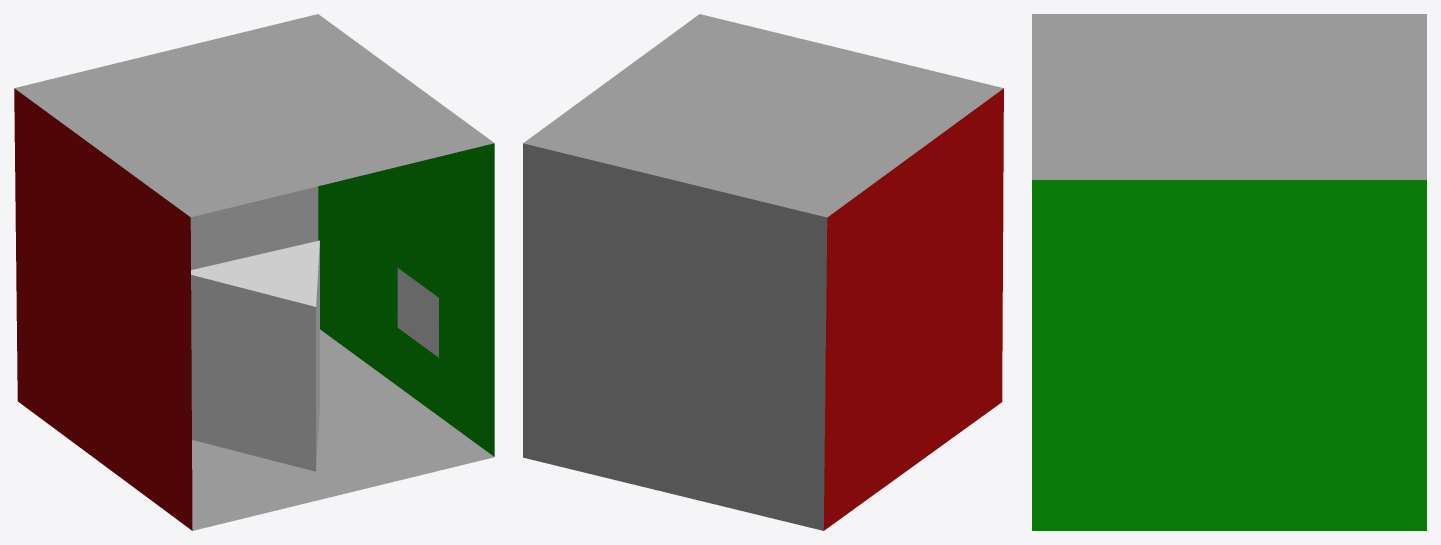
File: Cycles.dae
3 renders of one model, left to right at view 1: azimuth 30°, elevation 25°; view 2: azimuth 150°, elevation 25°; view 3: azimuth 270°, elevation 25°, orthographic. The views are drawn at different scales.
Parts seen in each view (by area): view 1: cornell_box, 柱体, Light; view 2: cornell_box; view 3: cornell_box.
Boxes of the visible parts, x1,y1,x2,y2 form: cornell_box: (14,14,494,530); 柱体: (191,240,319,471); Light: (397,268,438,357); cornell_box: (523,14,1003,530); cornell_box: (1032,14,1426,530).
Bounding box in the file's own units: 556 × 559 × 549.
